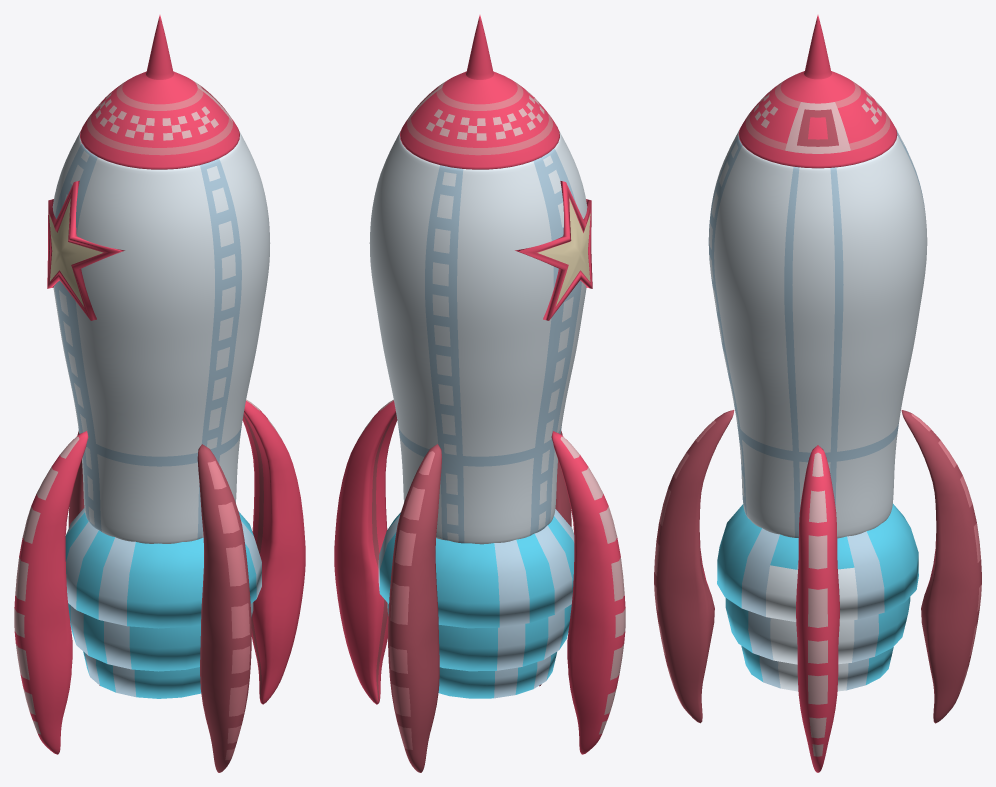
File: Rocket_easy_final.fbx
3 views of the same model, side by side, from view 1: azimuth 30°, elevation 25°; view 2: azimuth 150°, elevation 25°; view 3: azimuth 270°, elevation 25° (orthographic).
Parts seen in each view (by area): view 1: body, stands_frontback, Propeller, stands_side, Cap; view 2: body, stands_frontback, Propeller, stands_side, Cap; view 3: body, stands_side, Propeller, Cap, stands_frontback.
Boxes of the visible parts, x1,y1,x2,y2 form: body: (47, 131, 270, 543); stands_frontback: (14, 399, 305, 754); Propeller: (65, 508, 261, 698); stands_side: (68, 431, 251, 772); Cap: (80, 15, 239, 169); body: (369, 131, 592, 544); stands_frontback: (334, 400, 625, 754); Propeller: (378, 509, 574, 698); stands_side: (388, 431, 571, 772); Cap: (400, 15, 559, 169); body: (708, 130, 927, 538); stands_side: (654, 410, 981, 723); Propeller: (717, 503, 918, 691); Cap: (738, 15, 897, 168); stands_frontback: (796, 445, 839, 772).
Bounding box in the file's own units: 185 × 443 × 185.
